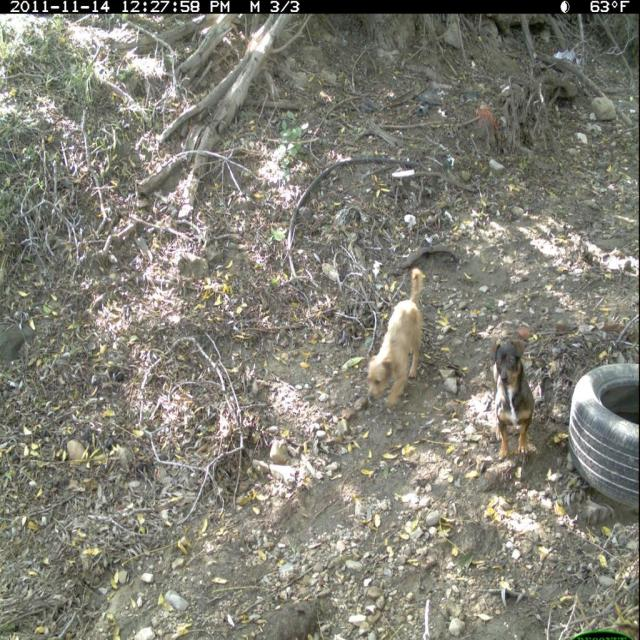dog: (363, 265, 427, 413), (490, 337, 536, 465)
